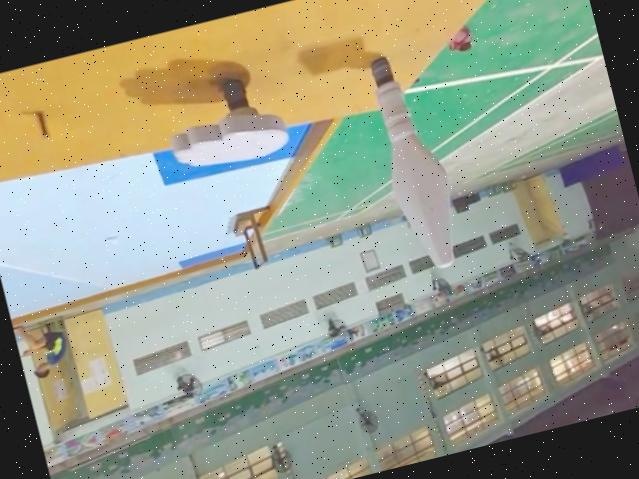Hand: (153, 64, 293, 184)
Sph: (354, 46, 469, 279)
